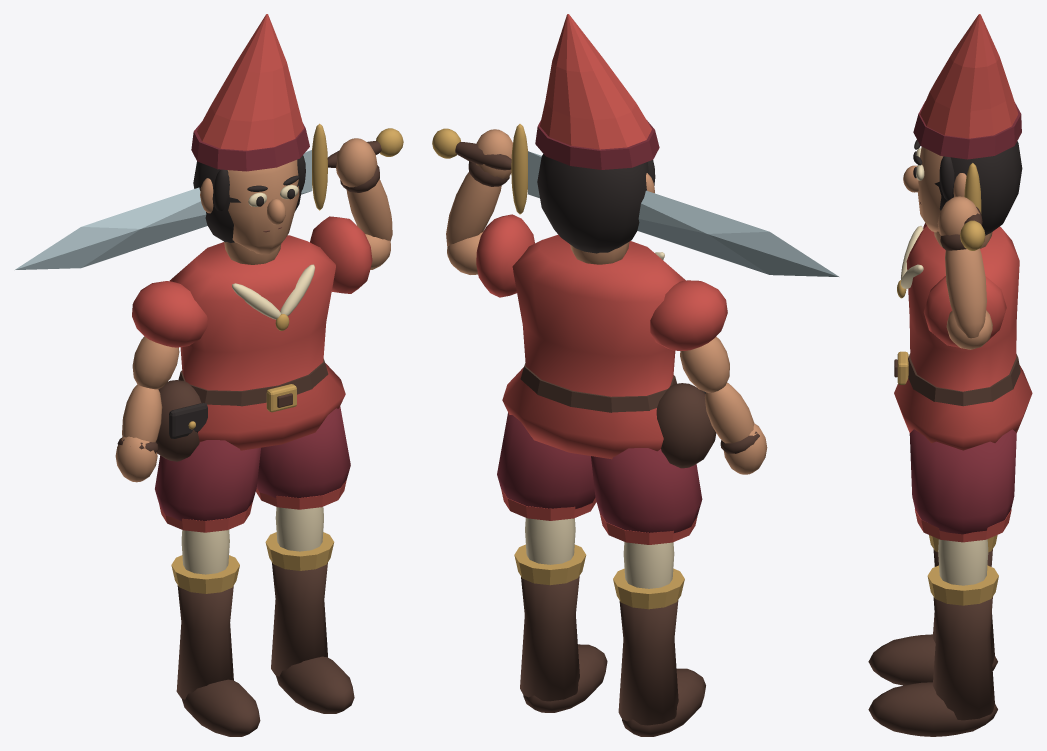
The model's file is red.glb.
3 renders of one model, left to right at view 1: azimuth 30°, elevation 25°; view 2: azimuth 150°, elevation 25°; view 3: azimuth 270°, elevation 25°, orthographic. The views are drawn at different scales.
Parts seen in each view (by area): view 1: Bloused tunic.001, Pointed cap.001, Shoulder sword.001, Loose shorts.002, Loose shorts.003, Tall boot.002, Tall boot.003, Tapered face.001, Short tunic sleeve.002, Pointed boot toe.002, Pointed boot toe.003, Short tunic sleeve.003 (+20 smaller); view 2: Bloused tunic.001, Pointed cap.001, Hair silhouette.001, Shoulder sword.001, Loose shorts.002, Tall boot.002, Tall boot.003, Loose shorts.003, Short tunic sleeve.002, Belt pouch.001, Short tunic sleeve.003, Folded cap brim.001 (+19 smaller); view 3: Bloused tunic.001, Loose shorts.003, Pointed cap.001, Tall boot.003, Pointed boot toe.003, Hair silhouette.001, Forearm.003, Pointed boot toe.002, Folded cap brim.001, Stocking.003, Short tunic sleeve.003, Leather belt.001 (+14 smaller).
Part boxes in pixels (x1,y1,x2,y2): Bloused tunic.001: (169, 235, 345, 450); Pointed cap.001: (197, 14, 303, 150); Shoulder sword.001: (15, 150, 311, 269); Loose shorts.002: (155, 440, 260, 521); Loose shorts.003: (256, 406, 350, 497); Tall boot.002: (176, 585, 233, 699); Tall boot.003: (271, 562, 327, 676); Tapered face.001: (227, 160, 299, 254); Short tunic sleeve.002: (132, 281, 207, 347); Pointed boot toe.002: (182, 679, 260, 736); Pointed boot toe.003: (276, 656, 354, 713); Short tunic sleeve.003: (310, 216, 372, 293); Bloused tunic.001: (502, 234, 685, 459); Pointed cap.001: (540, 14, 651, 149); Hair silhouette.001: (537, 154, 648, 253); Shoulder sword.001: (528, 151, 838, 276); Loose shorts.002: (591, 448, 702, 532); Tall boot.002: (618, 600, 678, 725); Tall boot.003: (520, 576, 579, 701); Loose shorts.003: (497, 412, 595, 508); Short tunic sleeve.002: (650, 280, 727, 350); Belt pouch.001: (656, 383, 716, 468); Short tunic sleeve.003: (476, 214, 534, 297); Folded cap brim.001: (535, 120, 659, 169); Bloused tunic.001: (894, 226, 1032, 450); Loose shorts.003: (909, 429, 1016, 534); Pointed cap.001: (920, 14, 1018, 138); Tall boot.003: (932, 597, 994, 720); Pointed boot toe.003: (868, 682, 997, 736); Hair silhouette.001: (934, 141, 1022, 235); Forearm.003: (945, 248, 986, 338); Pointed boot toe.002: (868, 634, 997, 685); Folded cap brim.001: (913, 101, 1021, 159); Stocking.003: (938, 539, 988, 585); Short tunic sleeve.003: (923, 276, 1006, 347); Leather belt.001: (908, 353, 1020, 406).
Size of the model in its own units: 1.28 by 2.14 by 0.45.
